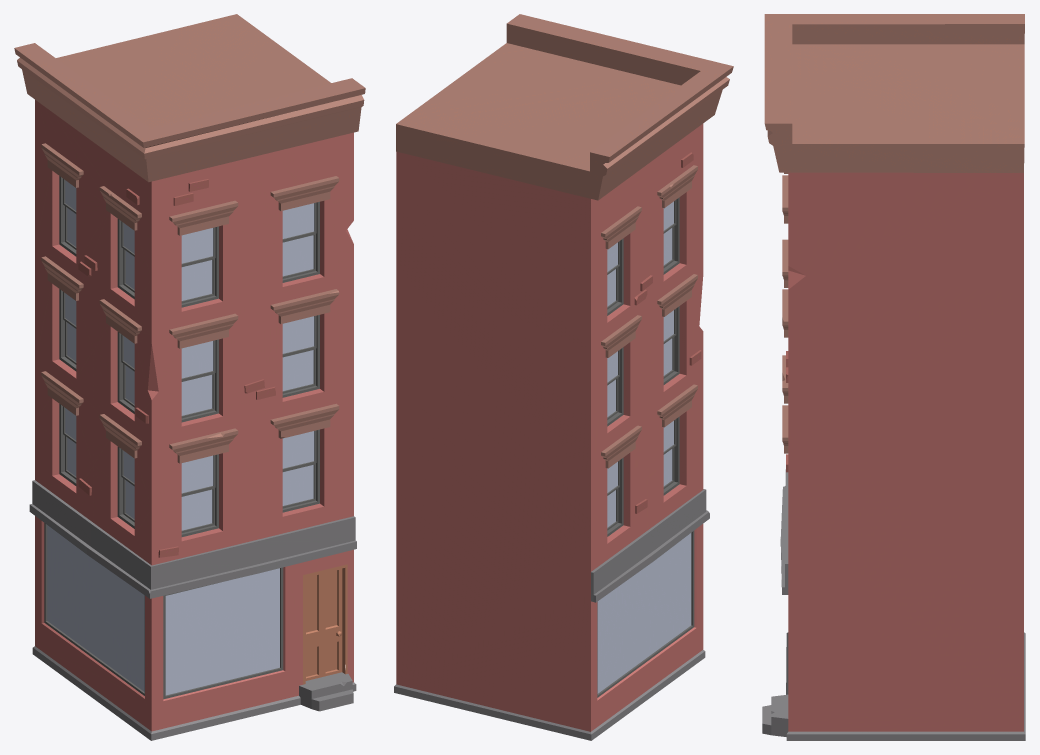
File: it-corner-shop.glb
3 views of the same model, side by side, from view 1: azimuth 30°, elevation 25°; view 2: azimuth 150°, elevation 25°; view 3: azimuth 270°, elevation 25° (orthographic). The views are drawn at different scales.
Parts seen in each view (by area): view 1: BuildingCornerRed; view 2: BuildingCornerRed; view 3: BuildingCornerRed.
Part boxes in pixels (box(x1,y1,x2,y2)): BuildingCornerRed: box(14, 14, 365, 740); BuildingCornerRed: box(394, 14, 733, 740); BuildingCornerRed: box(762, 14, 1025, 740).
Size of the model in its own units: 1.33 by 3.47 by 1.34.
3 materials, 3 textured.
